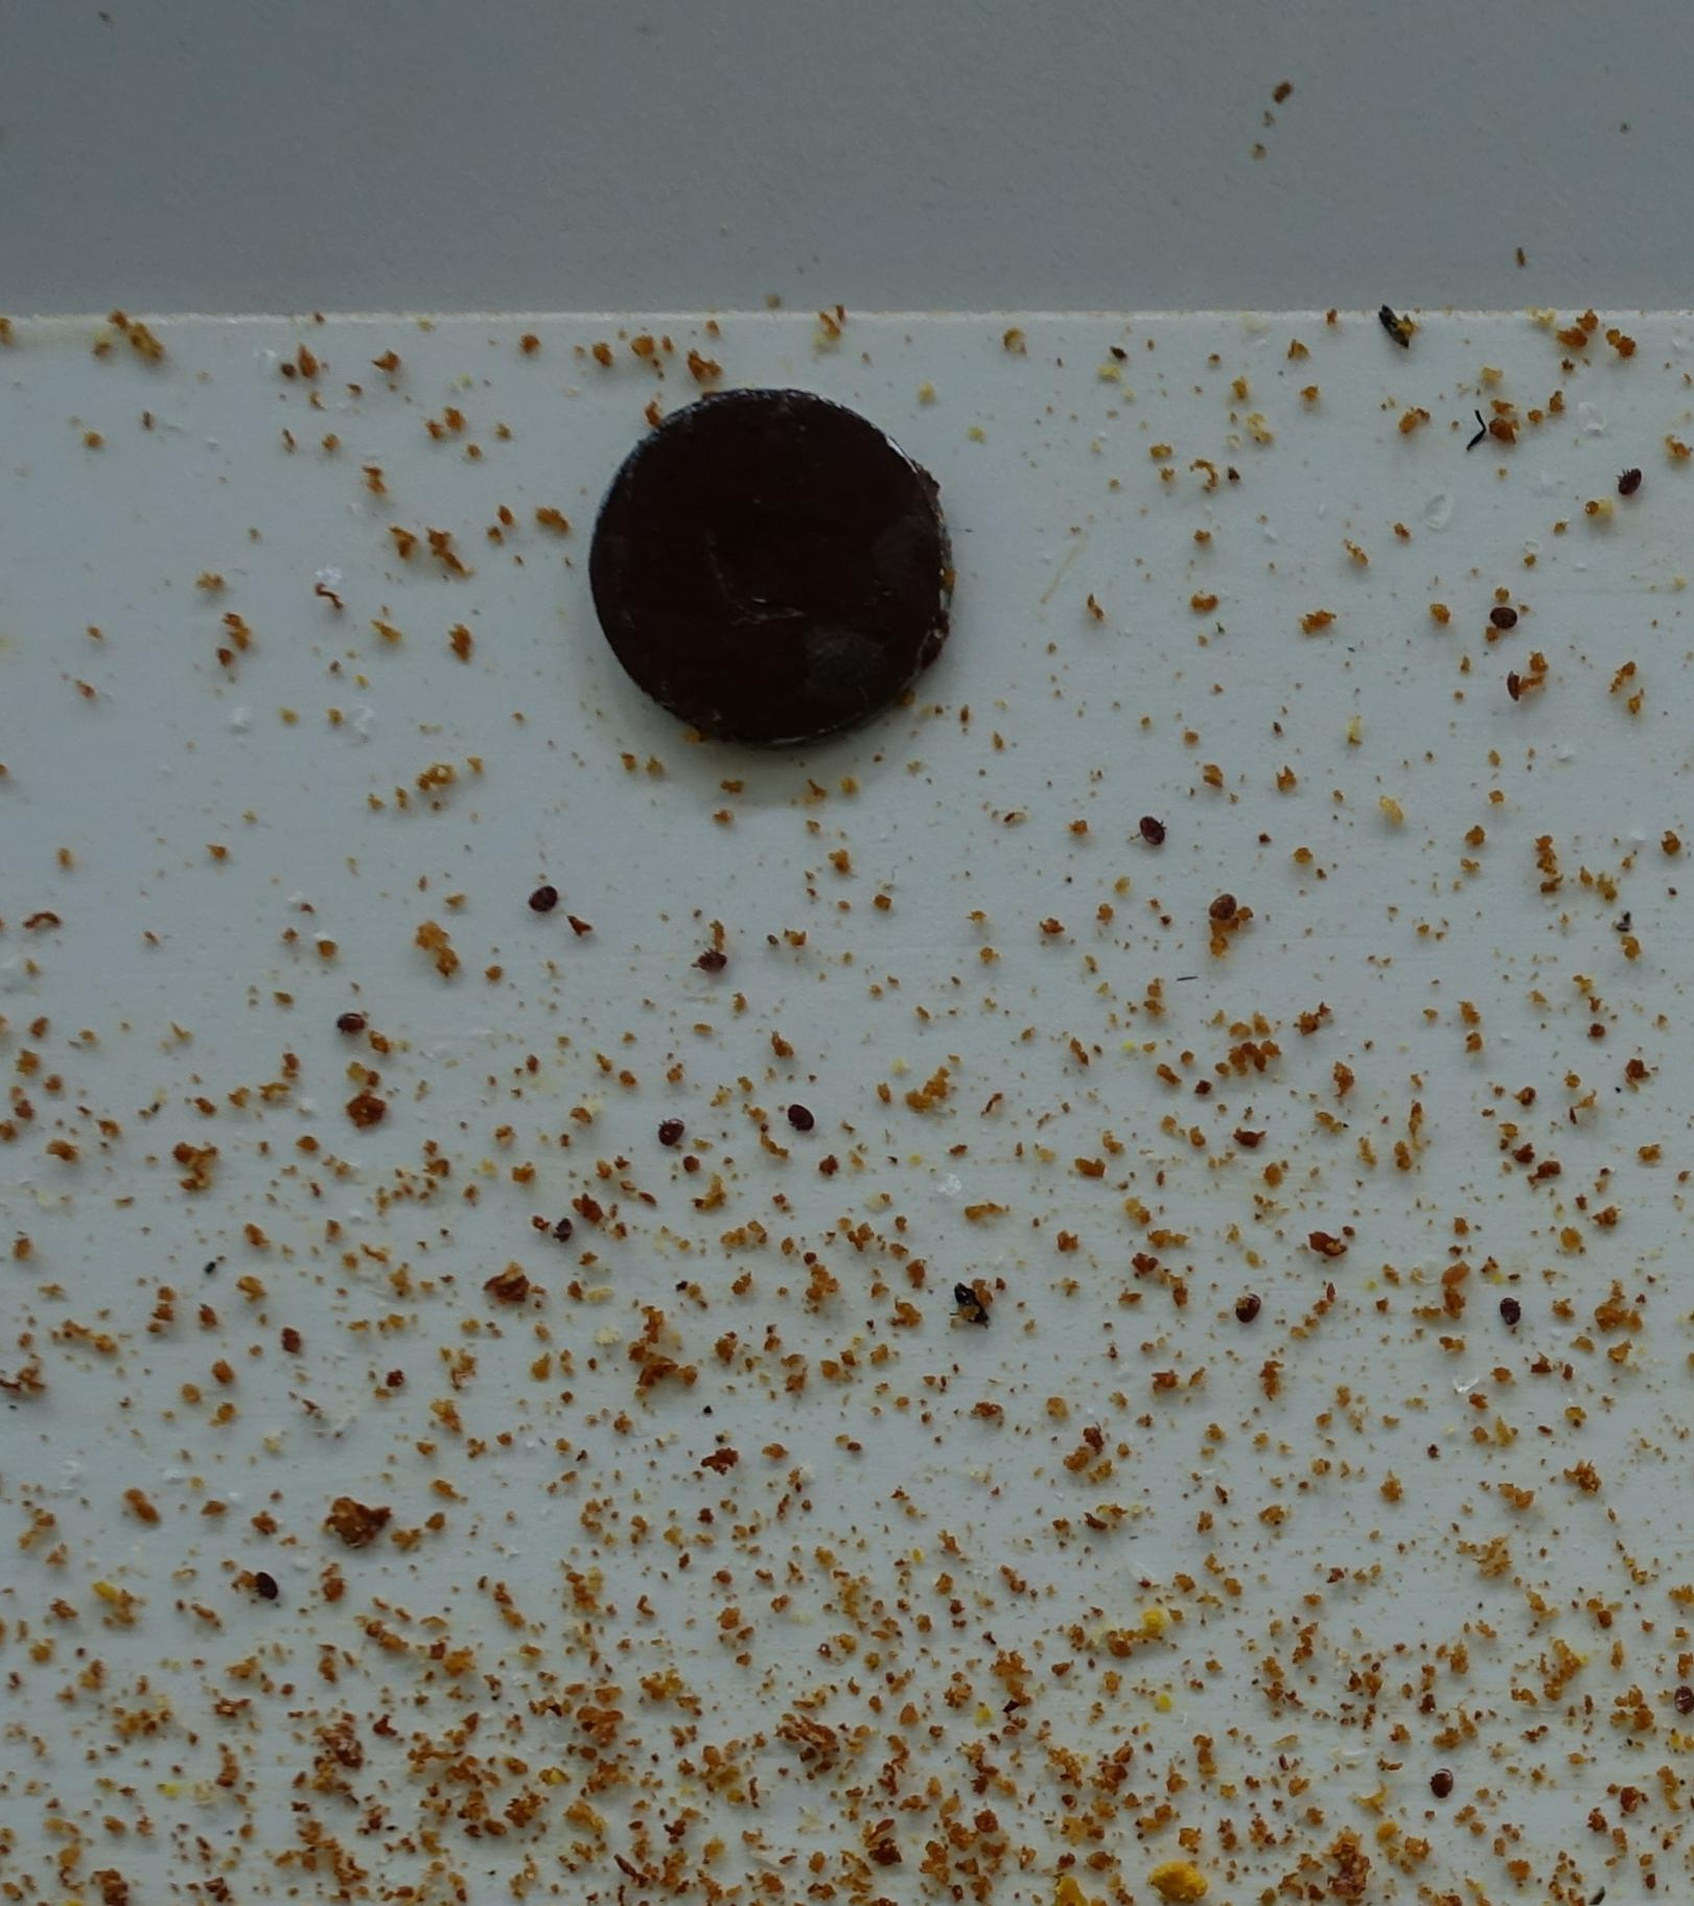Varroa: (1491, 664, 1534, 705), (249, 1576, 280, 1605), (1207, 897, 1238, 925), (1616, 468, 1642, 495), (1135, 821, 1161, 847), (1230, 1295, 1256, 1321), (535, 878, 559, 906), (1491, 1296, 1517, 1321), (343, 1004, 370, 1028), (654, 1115, 679, 1139), (786, 1112, 809, 1134), (715, 955, 733, 978), (1495, 605, 1514, 624), (1441, 1774, 1457, 1796)
